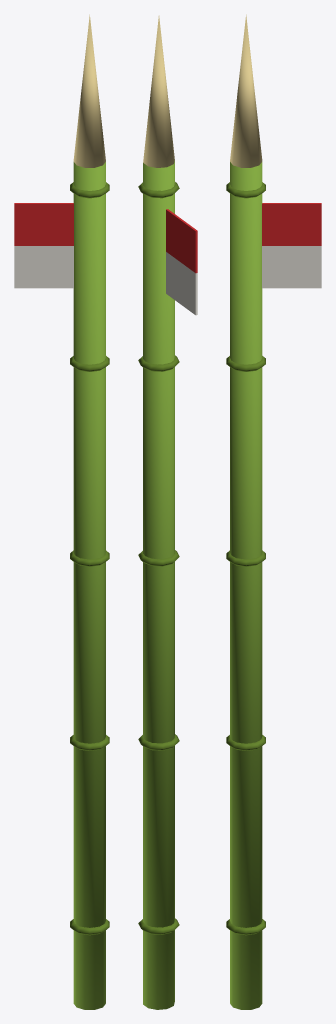
Rendered from weapon_bambu.glb.
3 renders of one model, left to right at view 1: azimuth 90°, elevation 25°; view 2: azimuth 210°, elevation 25°; view 3: azimuth 270°, elevation 25°, orthographic.
Visible parts, largest first — view 1: pickup_bambu; view 2: pickup_bambu; view 3: pickup_bambu.
Boxes of the visible parts, x1,y1,x2,y2 form: pickup_bambu: (14, 14, 109, 1009); pickup_bambu: (138, 15, 197, 1009); pickup_bambu: (226, 14, 321, 1009).
Bounding box in the file's own units: 0.072 × 1.88 × 0.1642.
